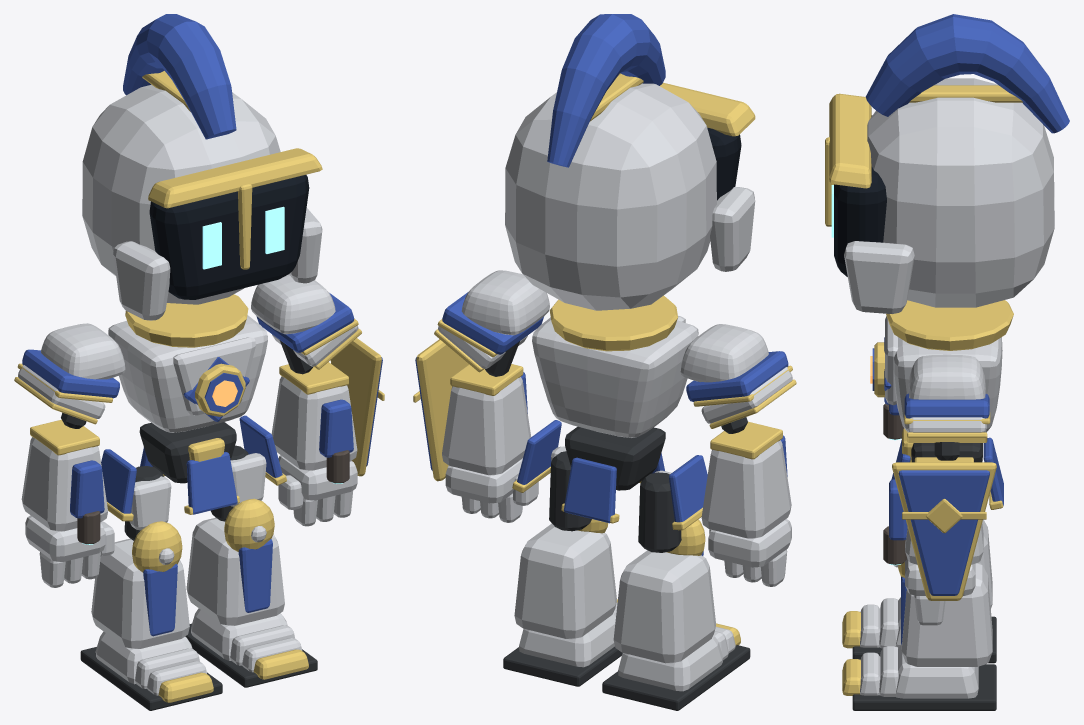
File: cavaleiro.glb
The picture shows the model from 3 angles, left to right: view 1: azimuth 30°, elevation 25°; view 2: azimuth 150°, elevation 25°; view 3: azimuth 270°, elevation 25°; orthographic projection. The views are drawn at different scales.
Parts seen in each view (by area): view 1: cabeca_p.001, visor.001, penacho, tronco_p.001, bota.002, bota.003, aba_testa, antebraco.003, gola.001, antebraco.002, ombro_p.002, bochecheira.001 (+44 smaller); view 2: cabeca_p.001, tronco_p.001, bota.003, bota.002, penacho, antebraco.003, antebraco.002, gola.001, ombro_p.002, pelve.001, ombro_p.003, escudo_borda (+24 smaller); view 3: cabeca_p.001, penacho, escudo, bota.002, gola.001, bochecheira, aba_testa, visor.001, ombro_p.002, tronco_p.001, pe.002, sola.002 (+27 smaller).
Part boxes in pixels (x1,y1,x2,y2): cabeca_p.001: [82, 84, 280, 304]; visor.001: [149, 175, 309, 299]; penacho: [123, 14, 236, 139]; tronco_p.001: [108, 315, 267, 432]; bota.002: [186, 517, 284, 625]; bota.003: [91, 538, 189, 648]; aba_testa: [148, 148, 322, 208]; antebraco.003: [21, 437, 107, 531]; gola.001: [125, 294, 248, 347]; antebraco.002: [271, 376, 357, 470]; ombro_p.002: [251, 274, 335, 334]; bochecheira.001: [113, 241, 170, 320]; cabeca_p.001: [505, 83, 716, 310]; tronco_p.001: [532, 317, 698, 437]; bota.003: [613, 550, 715, 663]; bota.002: [514, 523, 616, 639]; penacho: [547, 14, 665, 167]; antebraco.003: [701, 440, 791, 538]; antebraco.002: [442, 377, 531, 475]; gola.001: [549, 295, 677, 351]; ombro_p.002: [461, 270, 549, 335]; pelve.001: [565, 426, 665, 490]; ombro_p.003: [680, 324, 768, 382]; escudo_borda: [416, 339, 468, 481]; cabeca_p.001: [867, 78, 1054, 307]; penacho: [865, 14, 1069, 133]; escudo: [898, 470, 989, 595]; bota.002: [901, 562, 992, 666]; gola.001: [886, 300, 1013, 350]; bochecheira: [844, 241, 914, 313]; aba_testa: [829, 93, 871, 188]; visor.001: [834, 115, 886, 276]; ombro_p.002: [908, 354, 985, 399]; tronco_p.001: [893, 337, 1002, 431]; pe.002: [896, 644, 978, 698]; sola.002: [852, 664, 996, 710].
Bounding box in the file's own units: 0.6961 × 1.27 × 0.433.
